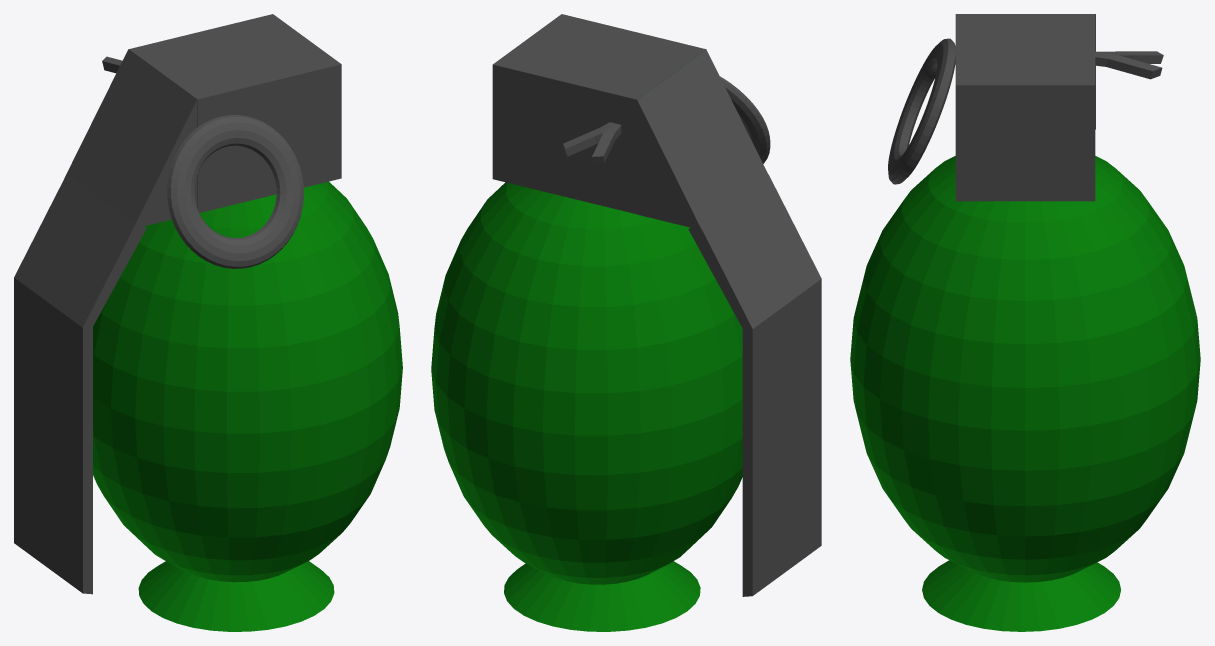
The model's file is M61GrenadeFull.fbx.
3 renders of one model, left to right at view 1: azimuth 30°, elevation 25°; view 2: azimuth 150°, elevation 25°; view 3: azimuth 270°, elevation 25°, orthographic.
Visible parts, largest first — view 1: Cube, Torus; view 2: Cube, Torus; view 3: Cube, Torus.
Part boxes in pixels (box(x1,y1,x2,y2)): Cube: box(14, 14, 402, 631); Torus: box(102, 56, 303, 268); Cube: box(431, 14, 821, 631); Torus: box(563, 76, 770, 163); Cube: box(850, 14, 1200, 631); Torus: box(888, 38, 1163, 184).
Bounding box in the file's own units: 3.28 × 5.05 × 2.97.
